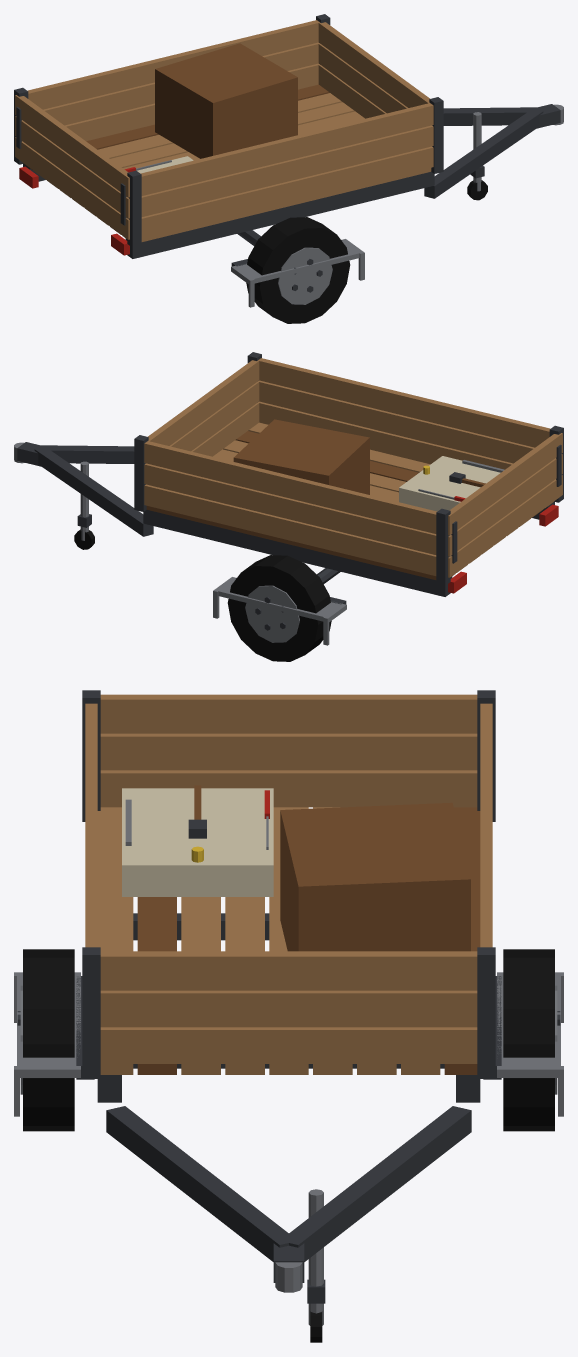
File: trailer_cargo_idle.glb
3 renders of one model, top to bottom at view 1: azimuth 30°, elevation 25°; view 2: azimuth 150°, elevation 25°; view 3: azimuth 270°, elevation 25°, orthographic. The views are drawn at different scales.
Visible parts, largest first — view 1: body.001; view 2: body.001; view 3: body.001.
Boxes of the visible parts, x1=… form: body.001: x1=14, y1=14, x2=563, y2=323; body.001: x1=14, y1=352, x2=563, y2=661; body.001: x1=14, y1=690, x2=563, y2=1342.
Size of the model in its own units: 3.26 by 1.09 by 1.81.
